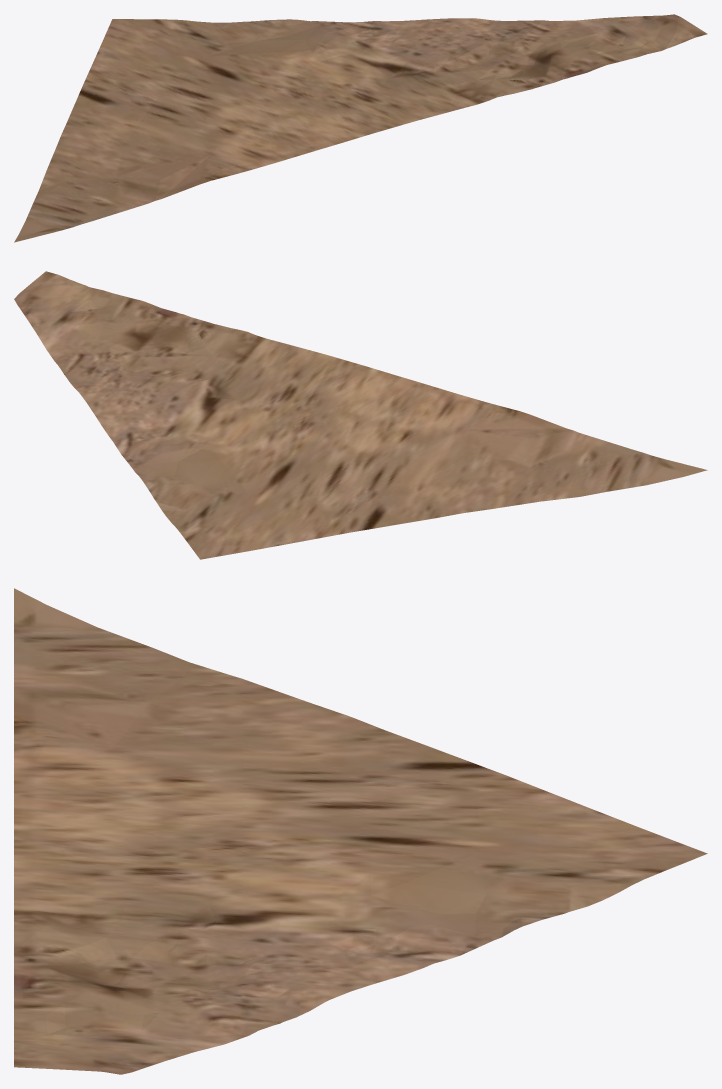
3 views of the same model, one above another, from view 1: azimuth 30°, elevation 25°; view 2: azimuth 150°, elevation 25°; view 3: azimuth 270°, elevation 25° (orthographic). The views are drawn at different scales.
Size of the model in its own units: 11.08 by 0.782 by 6.
1 material, 1 textured.
